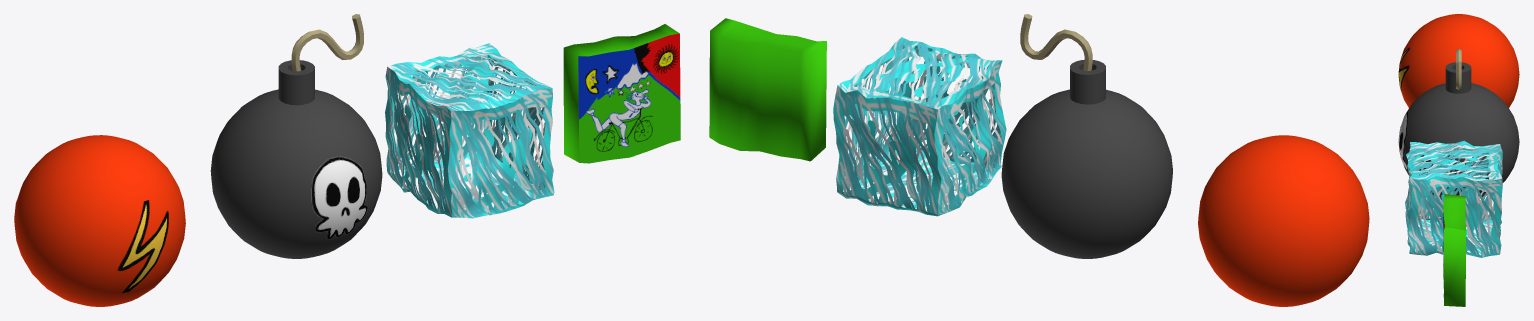
Rendered from powerups_nolegs.FBX.
The picture shows the model from 3 angles, left to right: view 1: azimuth 30°, elevation 25°; view 2: azimuth 150°, elevation 25°; view 3: azimuth 270°, elevation 25°; orthographic projection. The views are drawn at different scales.
Parts seen in each view (by area): view 1: bomb, ice, flash, lsd; view 2: bomb, ice, flash, lsd; view 3: ice, bomb, flash, lsd.
Boxes of the visible parts, <box> form: bomb: <box>210,14,382,258</box>; ice: <box>385,43,554,218</box>; flash: <box>14,135,185,306</box>; lsd: <box>563,24,680,163</box>; bomb: <box>1001,14,1172,258</box>; ice: <box>833,37,1006,216</box>; flash: <box>1198,135,1369,306</box>; lsd: <box>709,18,826,161</box>; ice: <box>1405,140,1502,257</box>; bomb: <box>1398,48,1519,199</box>; flash: <box>1398,14,1519,107</box>; lsd: <box>1443,194,1466,306</box>.
Size of the model in its own units: 193 by 63.48 by 44.73.
4 materials, 4 textured.
